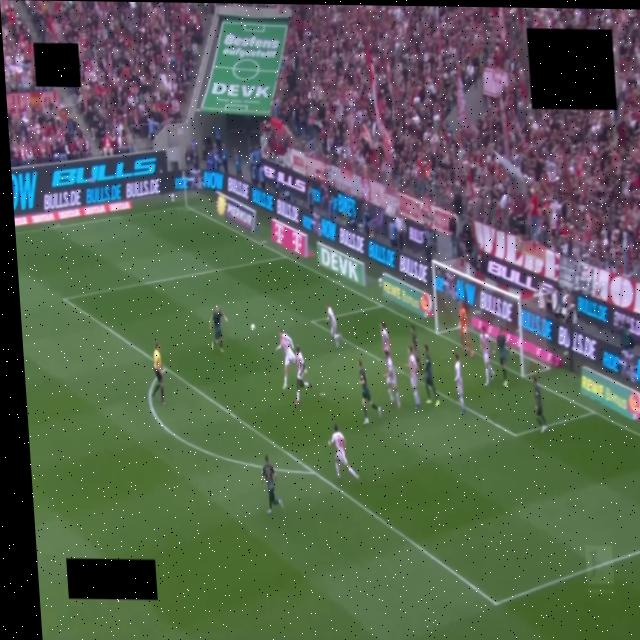ball: (250, 323, 255, 330)
player: (329, 425, 359, 479), (358, 359, 381, 424), (262, 456, 283, 514), (276, 330, 296, 388), (424, 344, 440, 406), (296, 347, 312, 405), (480, 327, 495, 386), (385, 352, 401, 407), (209, 305, 227, 352), (533, 377, 547, 432), (408, 347, 420, 410), (459, 303, 473, 357), (410, 325, 423, 378), (497, 331, 508, 388), (326, 304, 340, 348), (455, 354, 465, 413), (380, 321, 390, 352)
referee: (152, 344, 165, 404)
